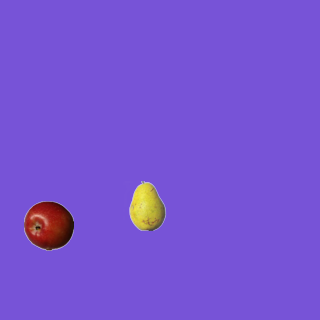Apple Braeburn: (23, 200, 73, 250)
Pear Monster: (122, 180, 172, 230)
